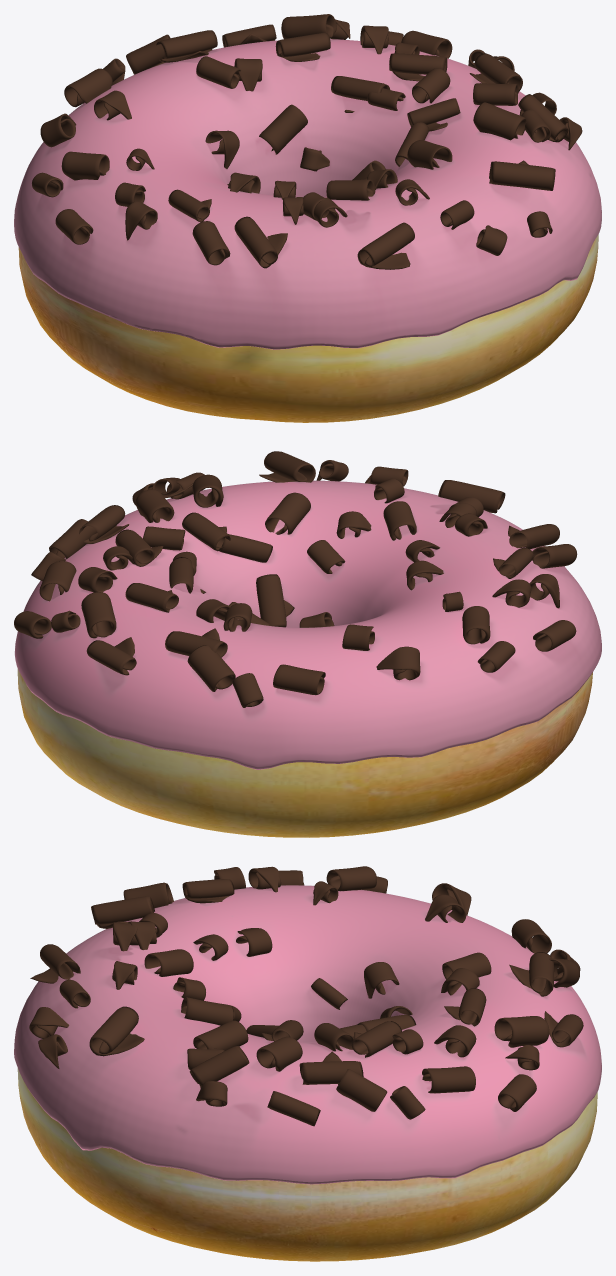
The model's file is strawberry dark curls.glb.
3 views of the same model, one above another, from view 1: azimuth 30°, elevation 25°; view 2: azimuth 150°, elevation 25°; view 3: azimuth 270°, elevation 25° (orthographic). The views are drawn at different scales.
Parts seen in each view (by area): view 1: coffee.001, strawberry, choco & straw curls, Torus; view 2: strawberry, coffee.001, choco & straw curls, Torus; view 3: strawberry, coffee.001, choco & straw curls, Torus.
Part boxes in pixels (x1,y1,x2,y2): coffee.001: [14, 39, 601, 349]; strawberry: [14, 39, 601, 349]; choco & straw curls: [32, 14, 582, 269]; Torus: [18, 234, 598, 422]; strawberry: [15, 481, 598, 769]; coffee.001: [14, 480, 601, 769]; choco & straw curls: [14, 451, 577, 707]; Torus: [17, 668, 592, 837]; strawberry: [15, 885, 601, 1184]; coffee.001: [14, 885, 601, 1184]; choco & straw curls: [29, 866, 583, 1126]; Torus: [17, 1068, 597, 1261].
Bounding box in the file's own units: 0.1989 × 0.0804 × 0.1972.
Materials: 4 (2 with a texture image).
